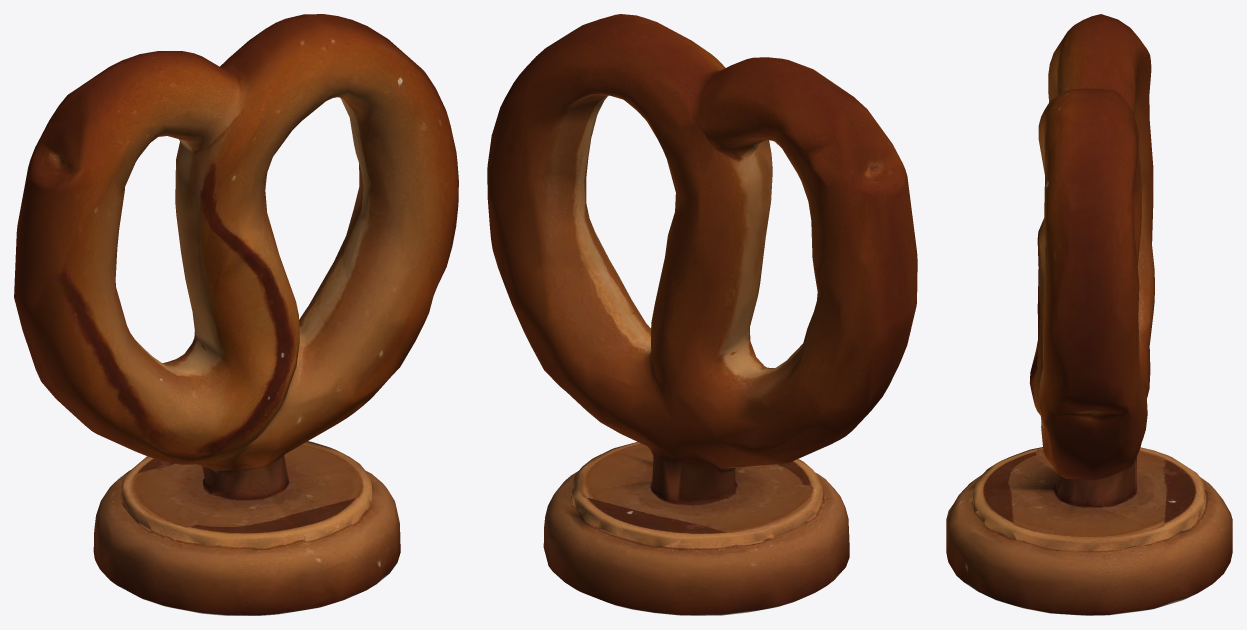
Rendered from token-pretzel.glb.
3 renders of one model, left to right at view 1: azimuth 30°, elevation 25°; view 2: azimuth 150°, elevation 25°; view 3: azimuth 270°, elevation 25°, orthographic. The views are drawn at different scales.
Size of the model in its own units: 1.62 by 1.9 by 1.01.
1 material, 1 textured.
